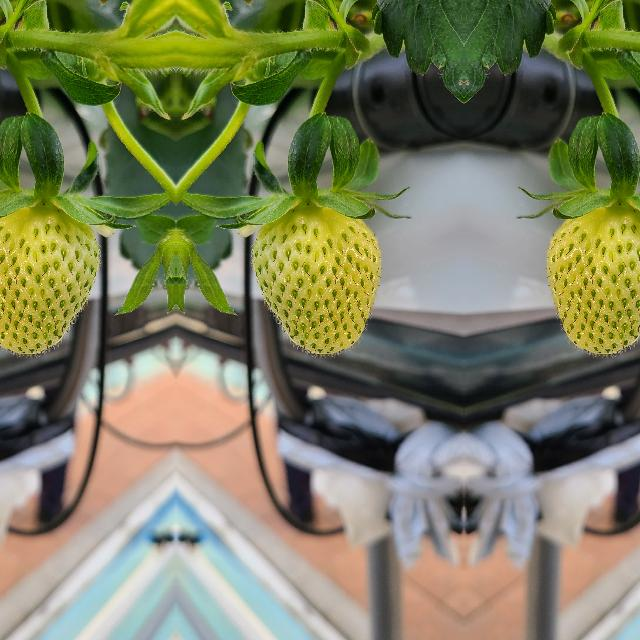Health_25: (249, 206, 381, 358), (0, 206, 101, 358), (545, 206, 640, 358)
